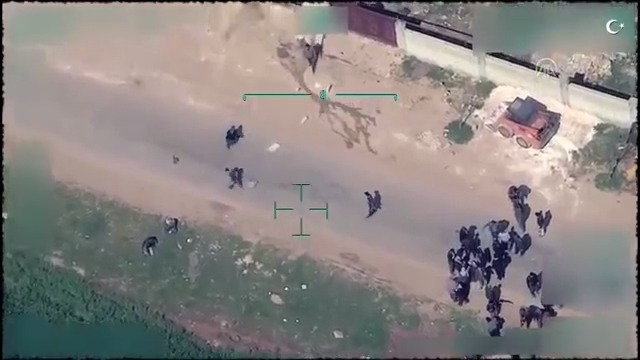arac: (488, 88, 562, 150)
insan: (297, 40, 319, 69), (360, 188, 379, 221), (222, 160, 244, 187), (531, 207, 548, 236)
